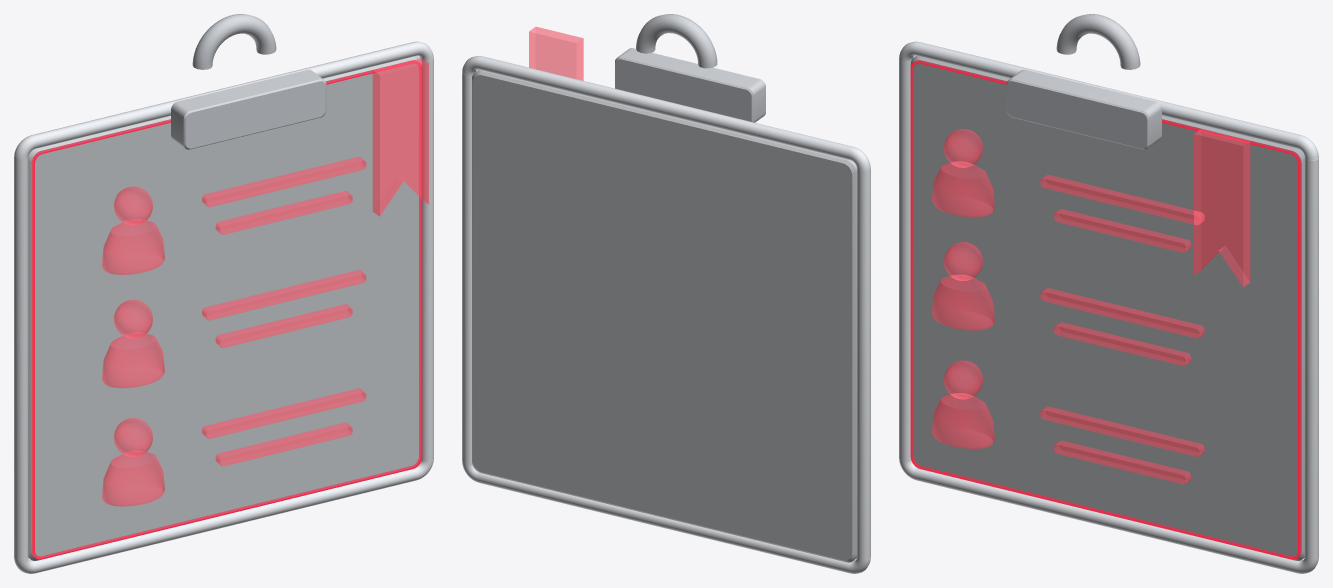
Rendered from 30-registry.glb.
The picture shows the model from 3 angles, left to right: view 1: azimuth 30°, elevation 25°; view 2: azimuth 150°, elevation 25°; view 3: azimuth 330°, elevation 25°; orthographic projection. The views are drawn at different scales.
Visible parts, largest first — view 1: BC clear optical glass, BC ruby optical glass, BC polished silver metal, BC satin silver metal, BC neon red glass edge; view 2: BC clear optical glass, BC polished silver metal, BC satin silver metal, BC ruby optical glass; view 3: BC clear optical glass, BC ruby optical glass, BC polished silver metal, BC satin silver metal, BC neon red glass edge.
Part boxes in pixels (x1,y1,x2,y2): BC clear optical glass: (28, 56, 421, 560); BC ruby optical glass: (102, 58, 428, 506); BC polished silver metal: (14, 41, 433, 573); BC satin silver metal: (171, 14, 326, 149); BC neon red glass edge: (31, 60, 422, 559); BC clear optical glass: (472, 69, 856, 562); BC polished silver metal: (462, 56, 870, 573); BC satin silver metal: (615, 14, 765, 122); BC ruby optical glass: (529, 26, 583, 80); BC clear optical glass: (910, 56, 1304, 560); BC ruby optical glass: (932, 129, 1250, 484); BC polished silver metal: (899, 41, 1318, 573); BC satin silver metal: (1006, 14, 1161, 149); BC neon red glass edge: (910, 60, 1301, 559).
Bounding box in the file's own units: 1.7 × 2.01 × 0.3005.
